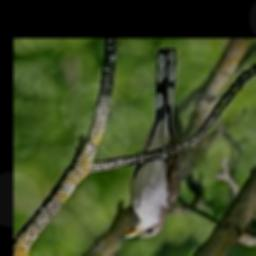Cuckoo: (124, 48, 184, 239)
